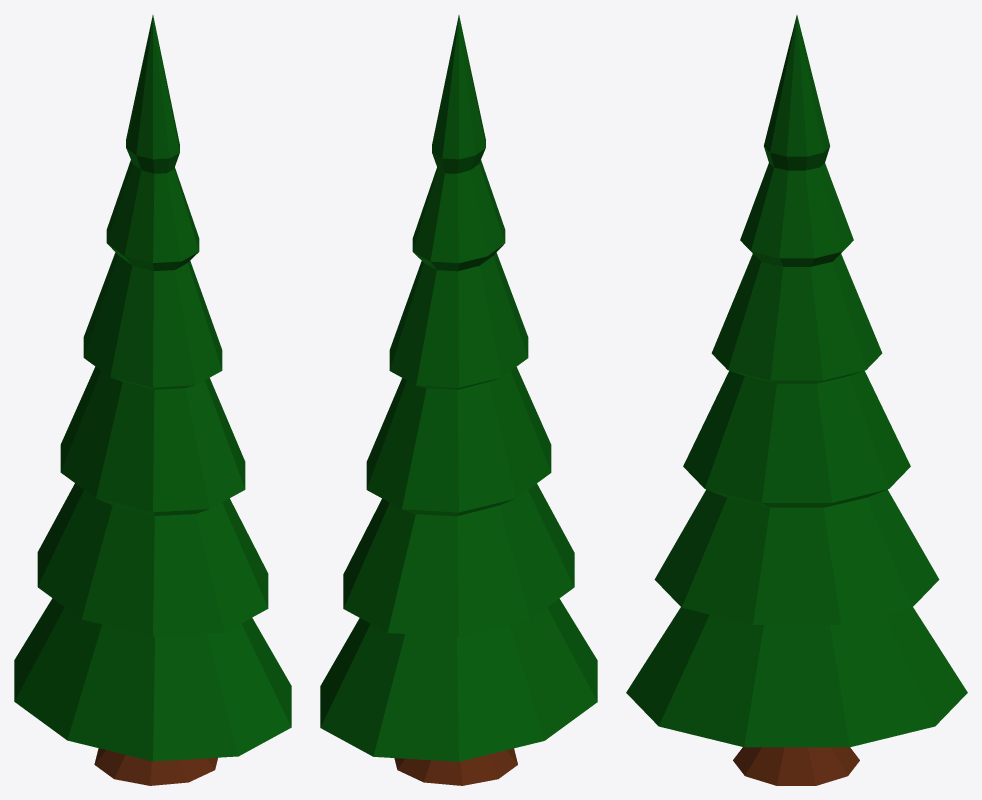
Rendered from pine tree for assignment 2.fbx.
3 renders of one model, left to right at view 1: azimuth 30°, elevation 25°; view 2: azimuth 150°, elevation 25°; view 3: azimuth 270°, elevation 25°, orthographic.
Parts seen in each view (by area): view 1: Pine Tree; view 2: Pine Tree; view 3: Pine Tree.
Part boxes in pixels (bbox=[...]): Pine Tree: bbox=[14, 15, 291, 785]; Pine Tree: bbox=[320, 15, 597, 785]; Pine Tree: bbox=[626, 15, 967, 785].
Bounding box in the file's own units: 473 × 1503 × 626.
